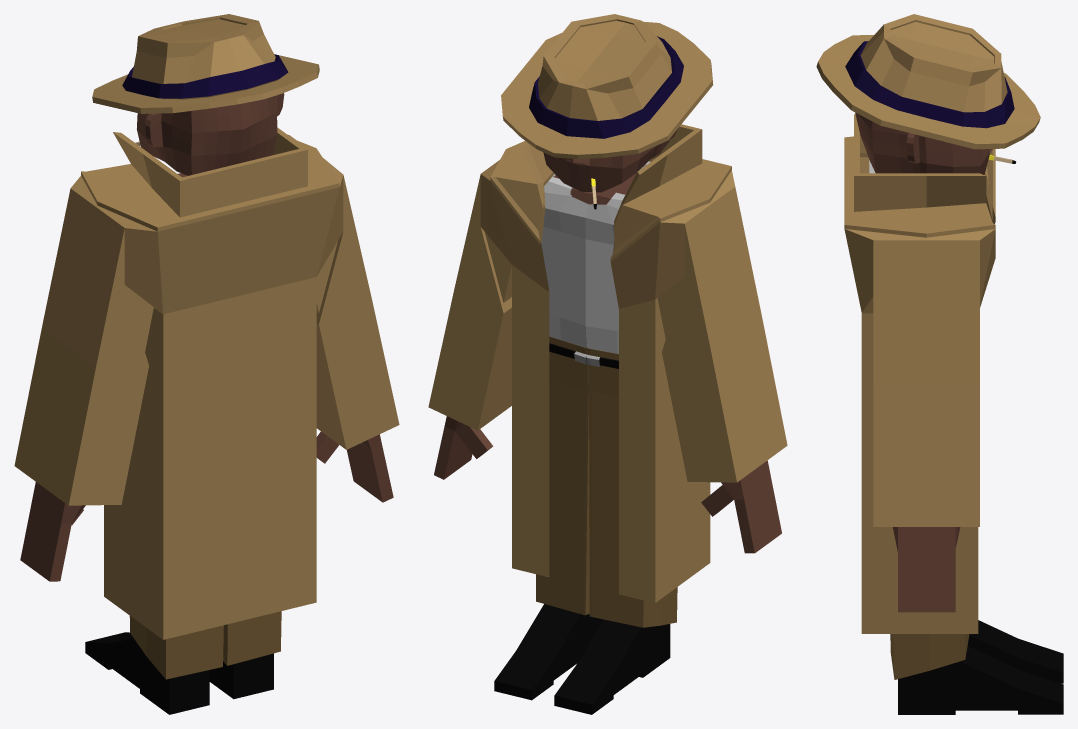
File: DETECTIVE DAVID.glb
3 renders of one model, left to right at view 1: azimuth 30°, elevation 25°; view 2: azimuth 150°, elevation 25°; view 3: azimuth 270°, elevation 25°, orthographic. The views are drawn at different scales.
Parts seen in each view (by area): view 1: Coat.001; view 2: Coat.001; view 3: Coat.001.
Part boxes in pixels (x1,y1,x2,y2): Coat.001: (14, 14, 399, 714); Coat.001: (428, 14, 787, 714); Coat.001: (816, 14, 1063, 714).
Size of the model in its own units: 0.8629 by 1.6 by 0.5449.
1 material, 1 textured.
